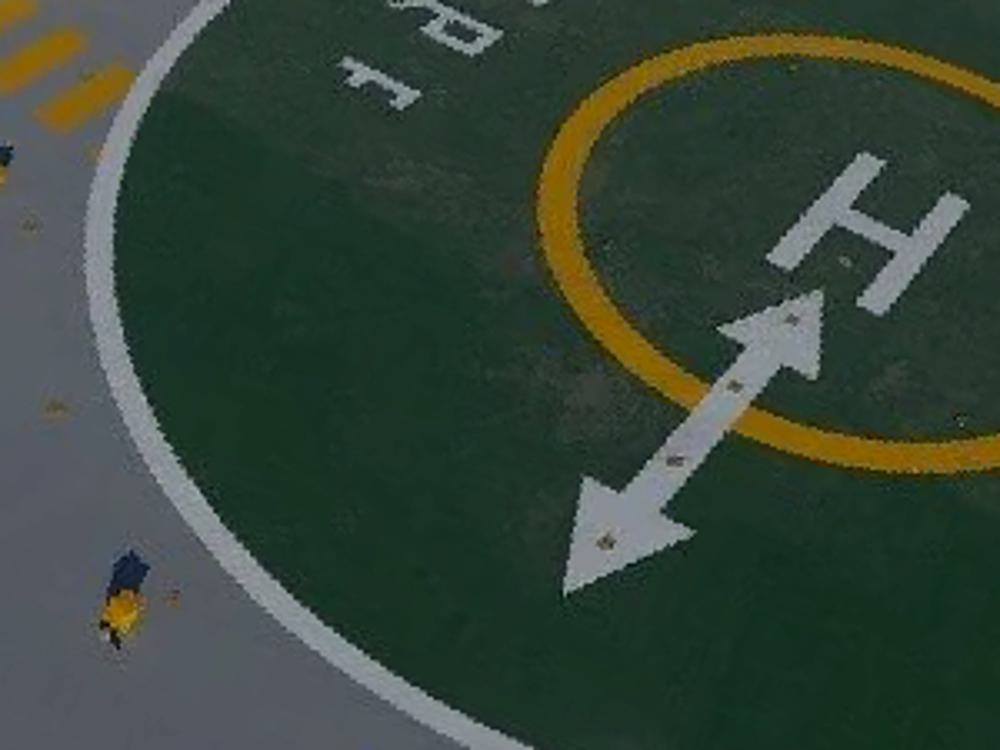Apron: (533, 29, 1000, 478)
